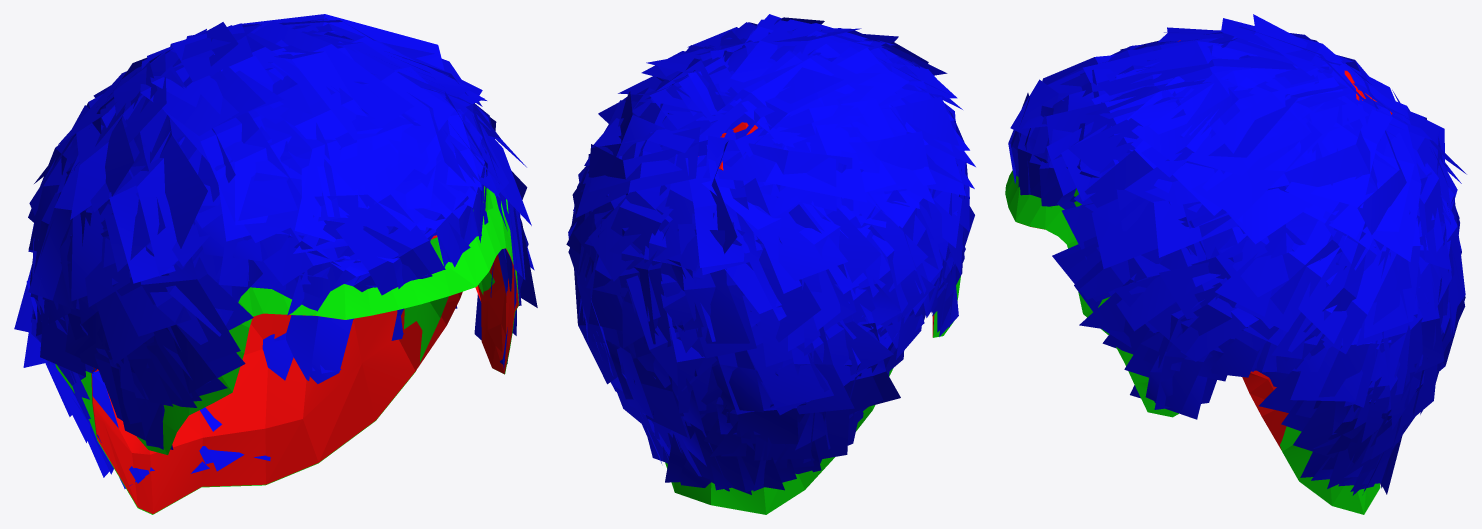
File: hair_010.obj
3 views of the same model, side by side, from view 1: azimuth 30°, elevation 25°; view 2: azimuth 150°, elevation 25°; view 3: azimuth 270°, elevation 25° (orthographic). The views are drawn at different scales.
Bounding box in the file's own units: 19.27 × 21.53 × 20.15.
